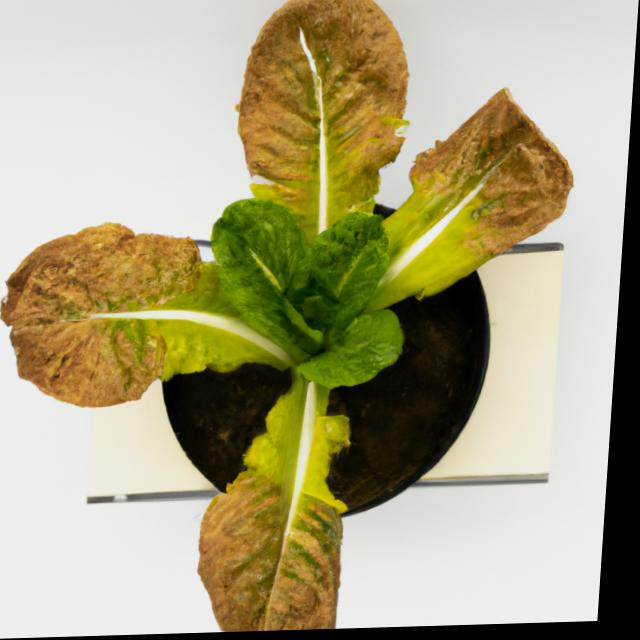-K: (0, 0, 597, 640)
